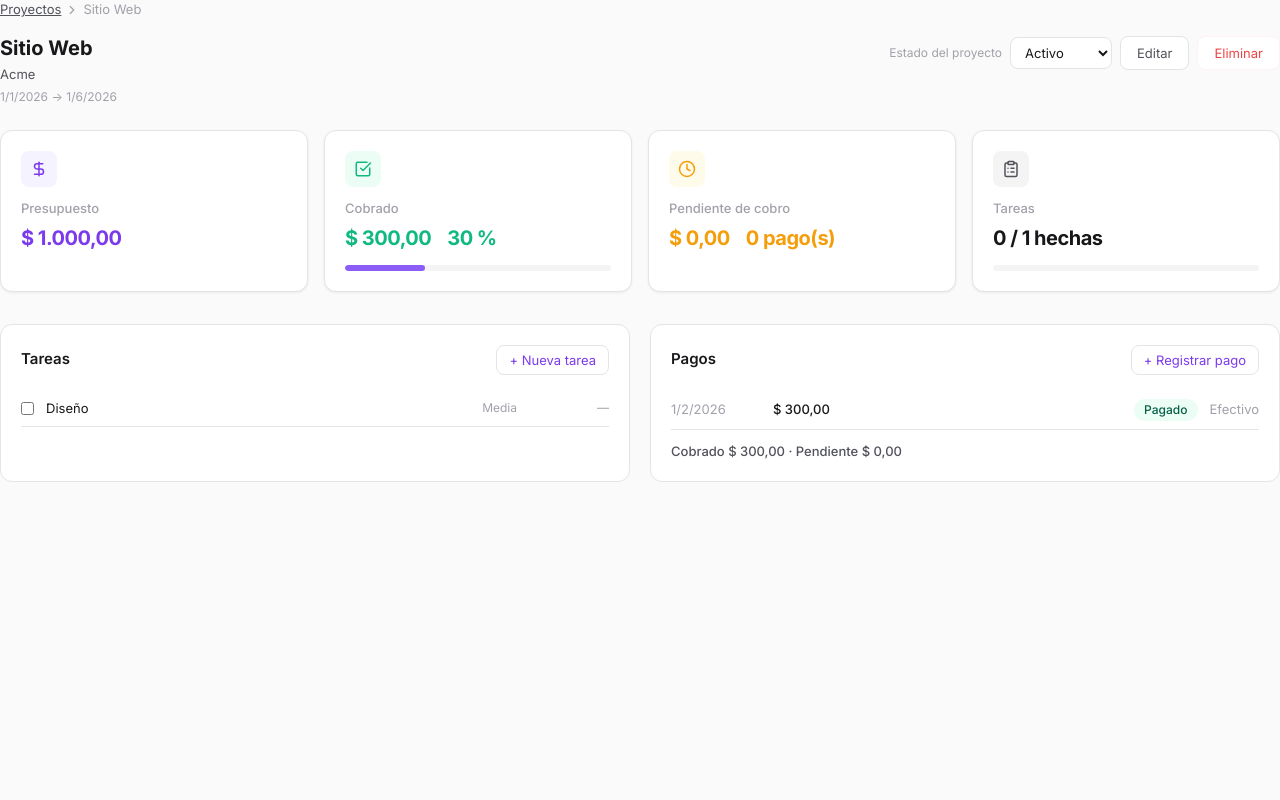
Test: ProjectHubPage — delete › blocks deletion and explains when the project has payments
Click the button "Eliminar": (1239, 52) [1198,36,1279,70]
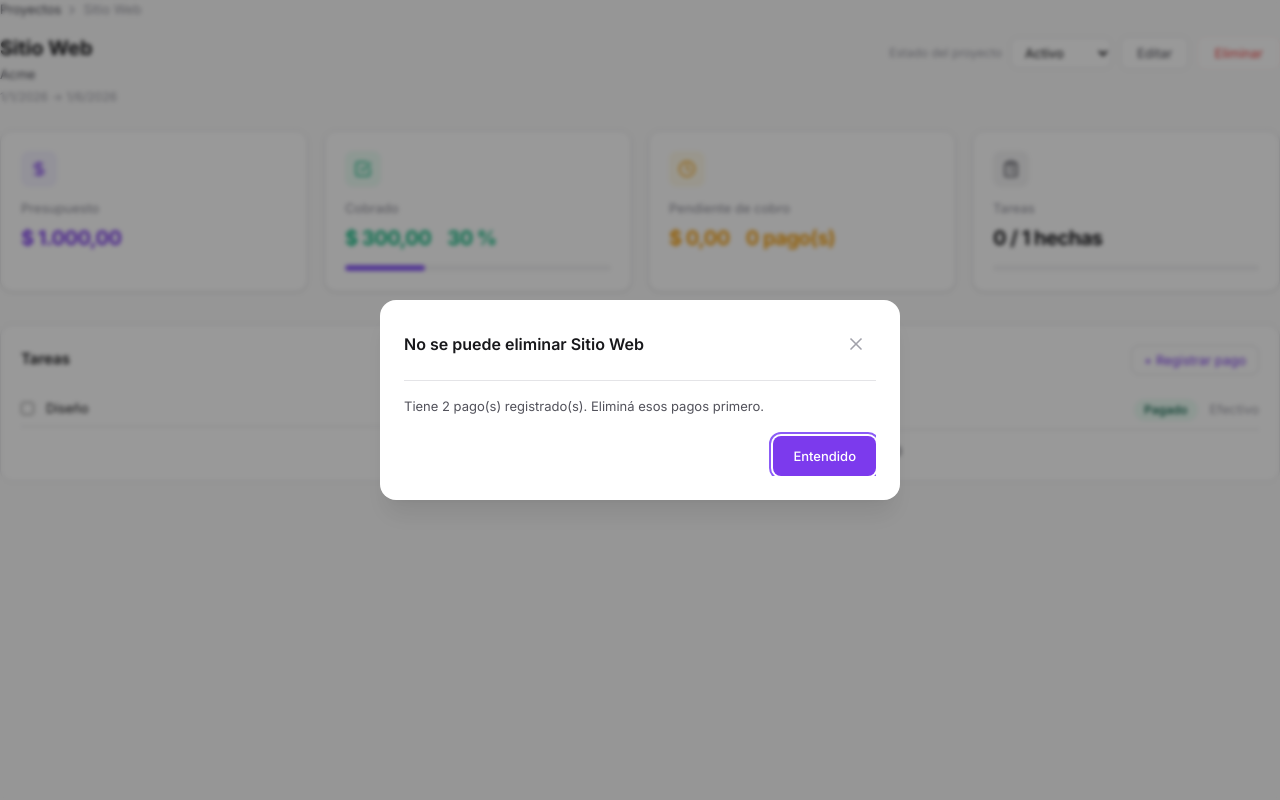
Now the heading "No se puede eliminar Sitio Web" is shown, box [404,334,644,354]
Now the text "Tiene 2 pago(s) registrado(s). Eliminá esos pagos primero." is shown, box [404,398,764,414]
